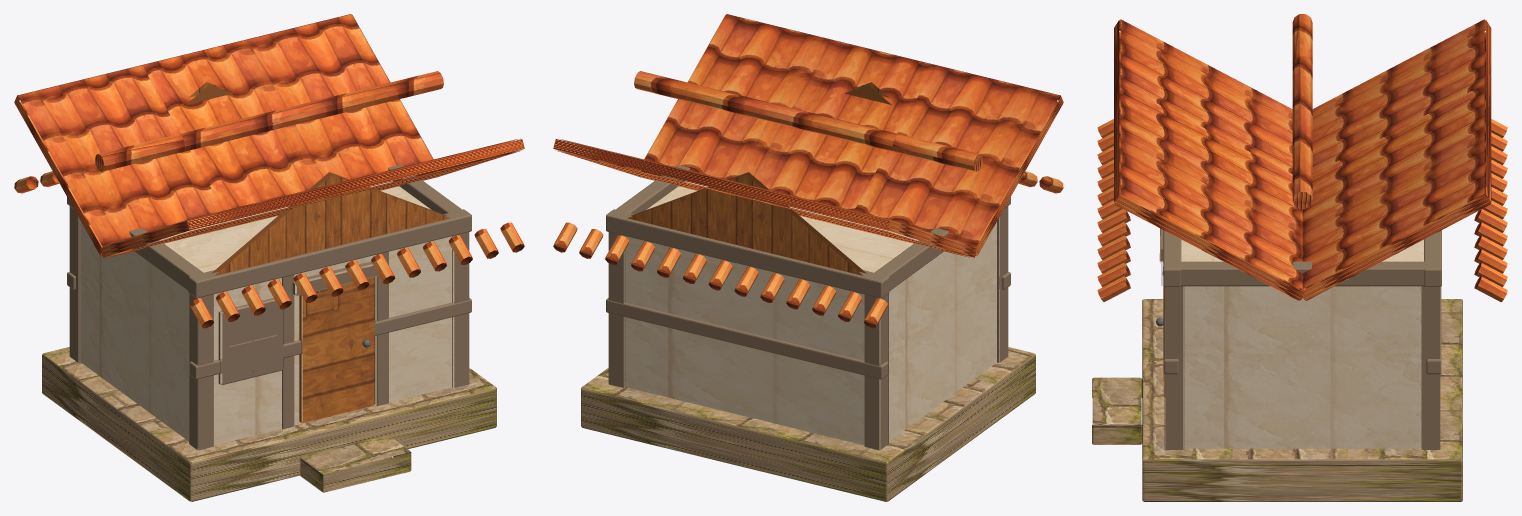
Rendered from house-staged_lod1.glb.
3 renders of one model, left to right at view 1: azimuth 30°, elevation 25°; view 2: azimuth 150°, elevation 25°; view 3: azimuth 270°, elevation 25°, orthographic. The views are drawn at different scales.
Visible parts, largest first — view 1: stage4_complete_merged, stage3_shell_merged, stage1_foundation_merged, stage2_frame_merged; view 2: stage3_shell_merged, stage1_foundation_merged, stage2_frame_merged, stage4_complete_merged; view 3: stage3_shell_merged, stage4_complete_merged, stage1_foundation_merged, stage2_frame_merged.
Part boxes in pixels (bbox=[...]): stage4_complete_merged: bbox=[14, 14, 524, 423]; stage3_shell_merged: bbox=[67, 82, 524, 447]; stage1_foundation_merged: bbox=[42, 347, 496, 501]; stage2_frame_merged: bbox=[67, 71, 471, 450]; stage3_shell_merged: bbox=[606, 14, 1063, 447]; stage1_foundation_merged: bbox=[581, 347, 1035, 501]; stage2_frame_merged: bbox=[606, 71, 1010, 450]; stage4_complete_merged: bbox=[553, 139, 1063, 328]; stage3_shell_merged: bbox=[1114, 19, 1441, 448]; stage4_complete_merged: bbox=[1097, 19, 1507, 397]; stage1_foundation_merged: bbox=[1092, 299, 1462, 501]; stage2_frame_merged: bbox=[1163, 14, 1441, 449].
Size of the model in its own units: 4.2 by 3.52 by 4.15.
9 materials, 6 textured.
